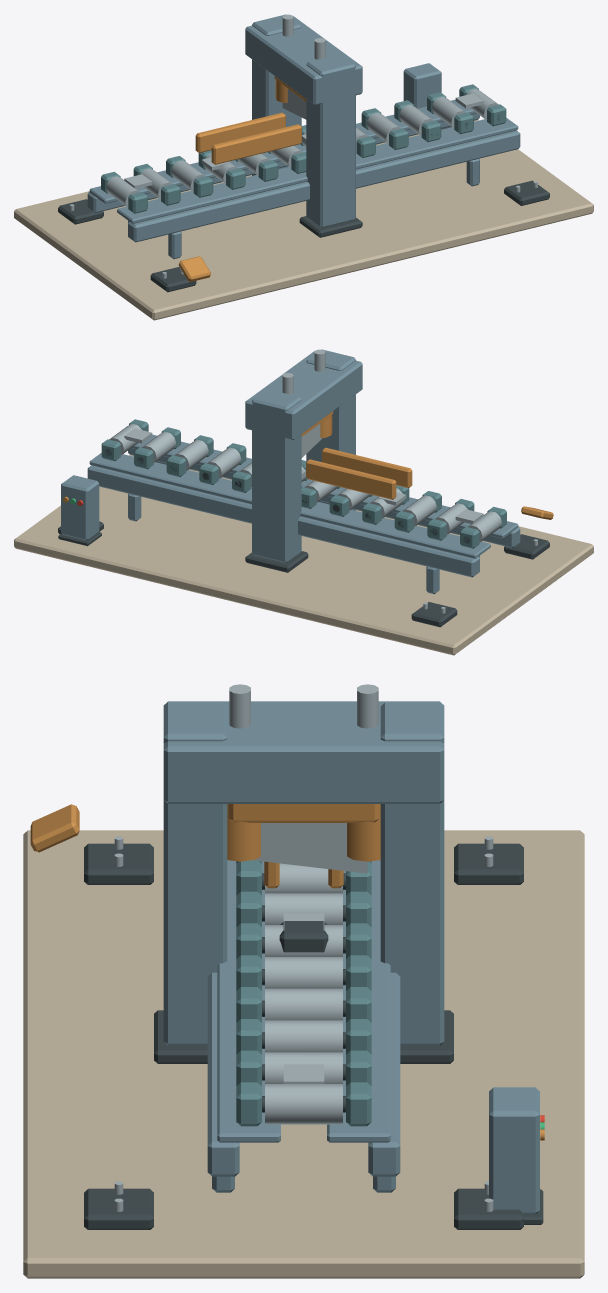
Rendered from CUT-BILLET-lod2.glb.
The picture shows the model from 3 angles, top to bottom: view 1: azimuth 30°, elevation 25°; view 2: azimuth 150°, elevation 25°; view 3: azimuth 270°, elevation 25°; orthographic projection. The views are drawn at different scales.
Visible parts, largest first — view 1: foundation, shear_column_0.85, bed_side_0.63, hydraulic_bridge, bearing_seat_0.63, shear_column_-0.85, section_guide_1, section_guide_-1, bearing_seat_-0.63, control_cabinet, bed_side_-0.63, foot_3.2_1.45 (+11 smaller); view 2: foundation, shear_column_-0.85, bed_side_-0.63, hydraulic_bridge, bearing_seat_-0.63, control_cabinet, shear_column_0.85, section_guide_-1, section_guide_1, bearing_seat_0.63, bed_side_0.63, foot_-3.2_-1.45 (+8 smaller); view 3: foundation, hydraulic_bridge, shear_column_-0.85, shear_column_0.85, control_cabinet, bearing_seat_0.63, bearing_seat_-0.63, section_shear_blade, support_roll_11, bed_side_-0.63, bed_side_0.63, knife_crosshead (+35 smaller).
Part boxes in pixels (bbox=[...]): foundation: bbox=[14, 120, 593, 320]; shear_column_0.85: bbox=[306, 54, 355, 227]; bed_side_0.63: bbox=[128, 130, 520, 242]; hydraulic_bridge: bbox=[245, 16, 362, 105]; bearing_seat_0.63: bbox=[117, 118, 518, 223]; shear_column_-0.85: bbox=[252, 14, 301, 175]; section_guide_1: bbox=[211, 124, 301, 164]; section_guide_-1: bbox=[195, 112, 285, 153]; bearing_seat_-0.63: bbox=[89, 99, 476, 203]; control_cabinet: bbox=[403, 63, 441, 108]; bed_side_-0.63: bbox=[87, 113, 479, 212]; foot_3.2_1.45: bbox=[504, 180, 549, 205]; foundation: bbox=[14, 455, 593, 655]; shear_column_-0.85: bbox=[252, 389, 301, 562]; bed_side_-0.63: bbox=[87, 465, 479, 577]; hydraulic_bridge: bbox=[245, 351, 362, 440]; bearing_seat_-0.63: bbox=[89, 453, 490, 558]; control_cabinet: bbox=[61, 475, 99, 540]; shear_column_0.85: bbox=[306, 349, 355, 510]; section_guide_-1: bbox=[306, 459, 396, 499]; section_guide_1: bbox=[322, 447, 412, 488]; bearing_seat_0.63: bbox=[131, 434, 518, 538]; bed_side_0.63: bbox=[128, 448, 520, 547]; foot_-3.2_-1.45: bbox=[411, 602, 457, 627]; foundation: bbox=[23, 830, 584, 1278]; hydraulic_bridge: bbox=[163, 701, 444, 803]; shear_column_-0.85: bbox=[380, 702, 444, 1045]; shear_column_0.85: bbox=[163, 702, 227, 1045]; control_cabinet: bbox=[489, 1087, 539, 1214]; bearing_seat_0.63: bbox=[217, 860, 280, 1142]; bearing_seat_-0.63: bbox=[327, 860, 390, 1142]; section_shear_blade: bbox=[252, 823, 367, 873]; support_roll_11: bbox=[265, 1084, 342, 1124]; bed_side_-0.63: bbox=[368, 972, 400, 1176]; bed_side_0.63: bbox=[207, 972, 239, 1176]; knife_crosshead: bbox=[228, 804, 379, 822].
Bounding box in the file's own units: 8 × 3.28 × 4.4.
